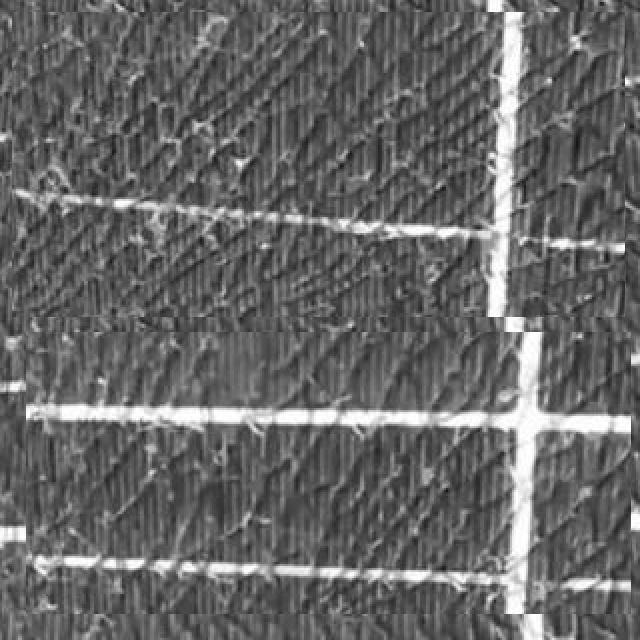Physical-damage: (12, 12, 625, 317), (26, 332, 631, 614)
